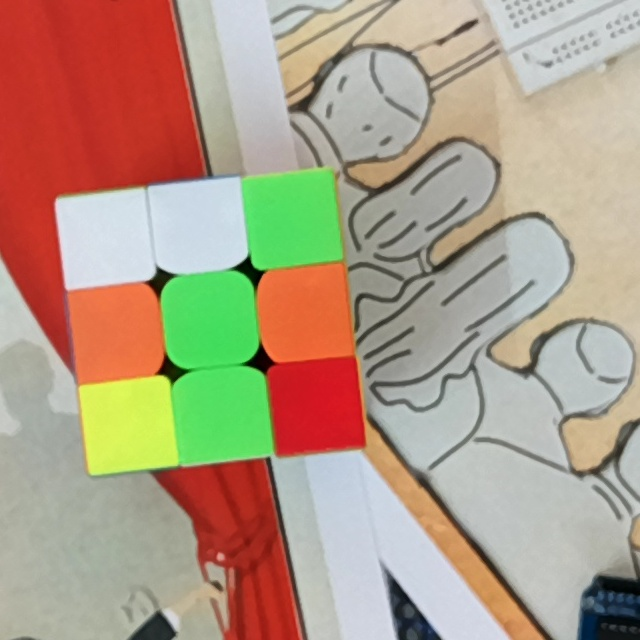tile: (88, 387, 170, 463), (253, 180, 332, 258), (183, 377, 263, 453), (78, 294, 156, 371), (65, 200, 146, 274), (270, 274, 346, 351), (278, 369, 358, 441), (159, 188, 239, 258), (170, 284, 246, 356)
